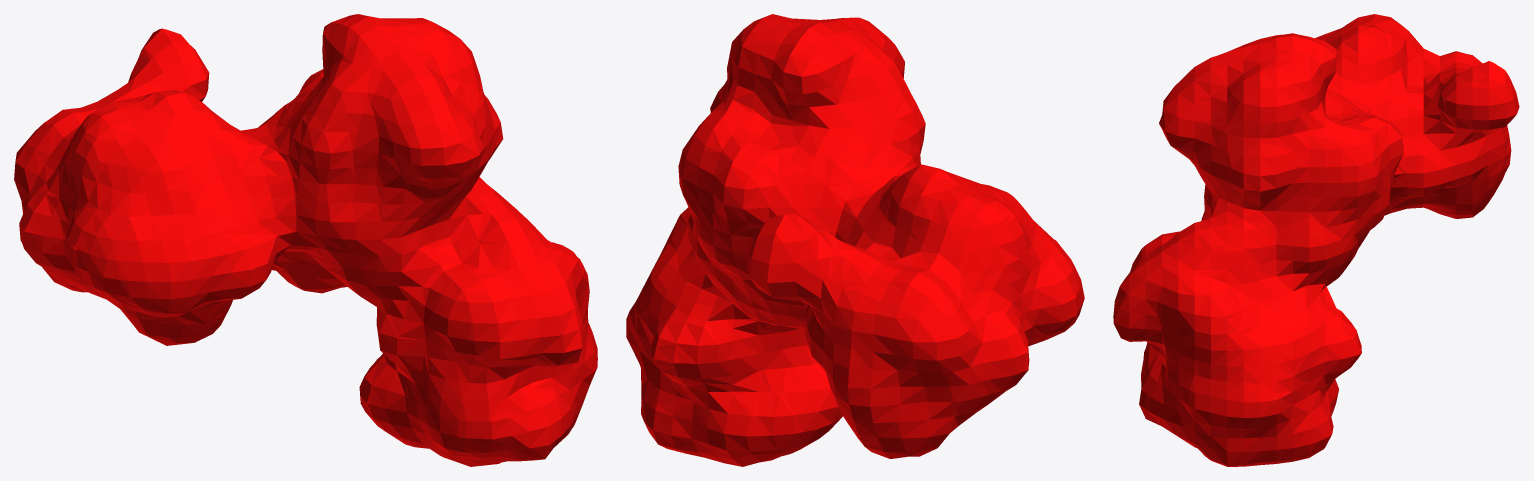
The model's file is yfcD_coarse.dae.
3 renders of one model, left to right at view 1: azimuth 30°, elevation 25°; view 2: azimuth 150°, elevation 25°; view 3: azimuth 270°, elevation 25°, orthographic. The views are drawn at different scales.
Visible parts, largest first — view 1: yfcD; view 2: yfcD; view 3: yfcD.
Part boxes in pixels (<box>): yfcD: <box>14,14,597,466</box>; yfcD: <box>626,14,1084,466</box>; yfcD: <box>1113,14,1519,466</box>.
Size of the model in its own units: 84.81 by 74.78 by 73.68.
